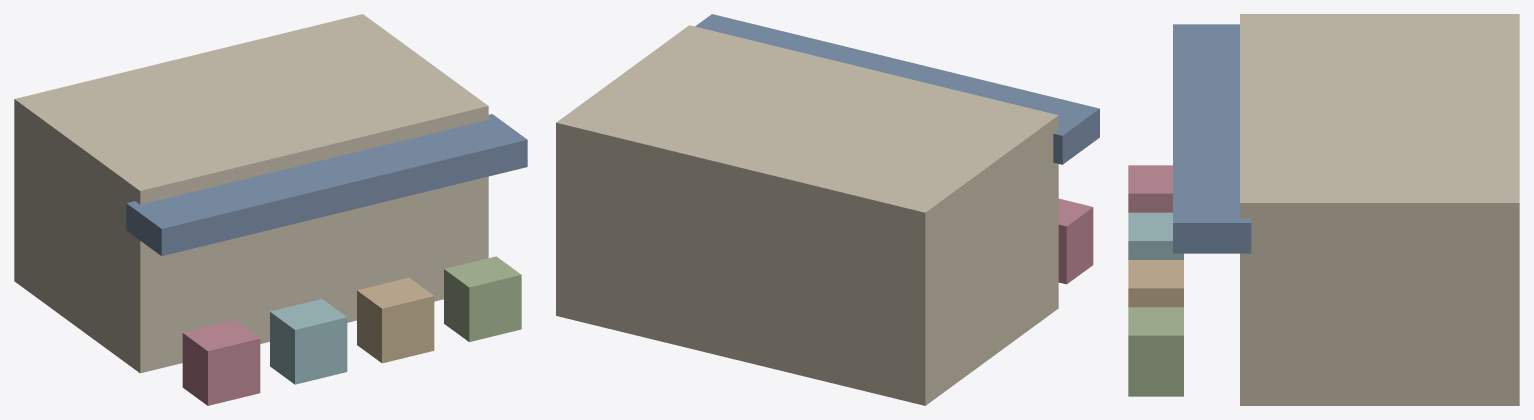
Rendered from retail.glb.
The picture shows the model from 3 angles, left to right: view 1: azimuth 30°, elevation 25°; view 2: azimuth 150°, elevation 25°; view 3: azimuth 270°, elevation 25°; orthographic projection. The views are drawn at different scales.
Parts seen in each view (by area): view 1: part_1, part_2, part_3, part_5, part_6, part_4; view 2: part_1, part_2, part_3; view 3: part_1, part_2, part_6, part_5, part_4, part_3.
Part boxes in pixels (box(x1,y1,x2,y2)): part_1: box(14, 14, 488, 373); part_2: box(126, 114, 527, 256); part_3: box(182, 320, 260, 405); part_5: box(357, 277, 434, 363); part_6: box(444, 256, 521, 341); part_4: box(270, 299, 347, 384); part_1: box(556, 25, 1058, 405); part_2: box(695, 14, 1099, 164); part_3: box(1058, 198, 1093, 284); part_1: box(1240, 14, 1519, 405); part_2: box(1173, 24, 1251, 253); part_6: box(1128, 307, 1183, 396); part_5: box(1128, 260, 1183, 307); part_4: box(1128, 212, 1183, 259); part_3: box(1128, 165, 1172, 212).
Size of what is drawn, in the model's own units: 8.4 by 4 by 7.
